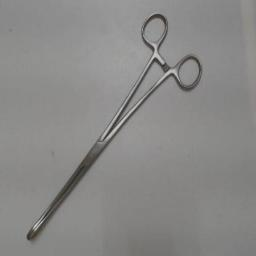Sponge Forceps: (20, 7, 208, 247)
